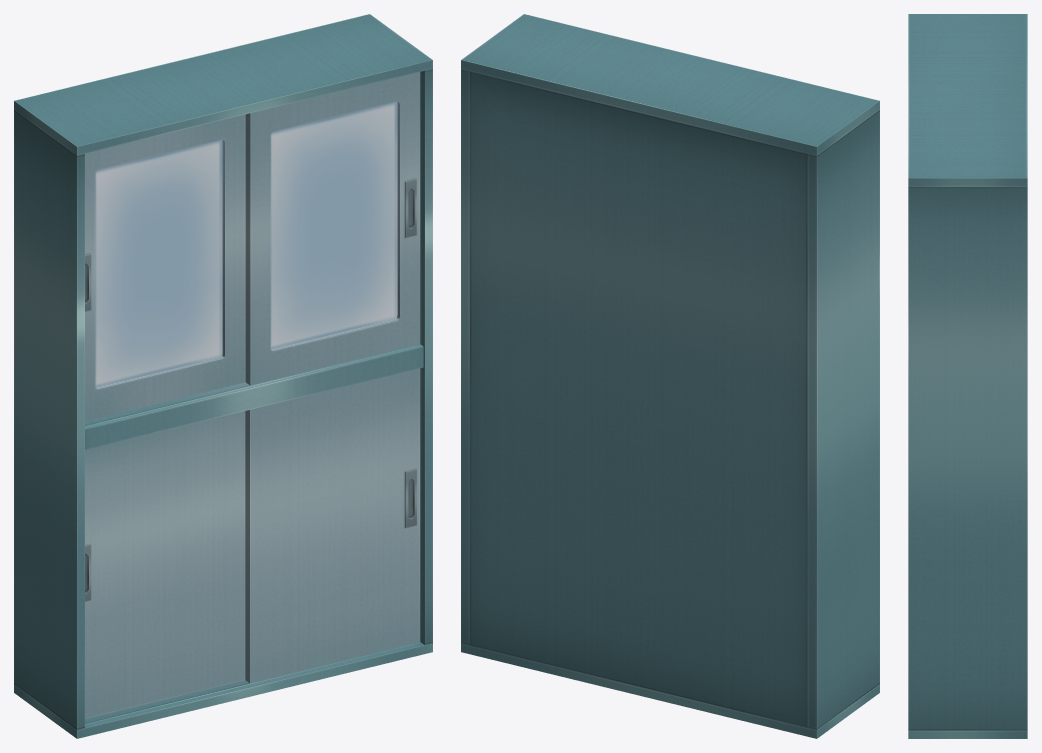
Rendered from Rack_01_01.fbx.
The picture shows the model from 3 angles, left to right: view 1: azimuth 30°, elevation 25°; view 2: azimuth 150°, elevation 25°; view 3: azimuth 270°, elevation 25°; orthographic projection. The views are drawn at different scales.
Parts seen in each view (by area): view 1: rack01, door02_R, door02_L, glass01, glass02, door01_R, door01_L; view 2: rack01; view 3: rack01.
Boxes of the visible parts, box(x1,y1,x2,y2) form: rack01: box(14, 14, 432, 738); door02_R: box(245, 368, 420, 683); door02_L: box(85, 411, 245, 718); glass01: box(95, 140, 222, 387); glass02: box(270, 101, 397, 349); door01_R: box(245, 72, 420, 385); door01_L: box(85, 114, 245, 421); rack01: box(461, 14, 879, 738); rack01: box(908, 14, 1027, 738).
Bounding box in the file's own units: 122 × 194 × 37.5.
